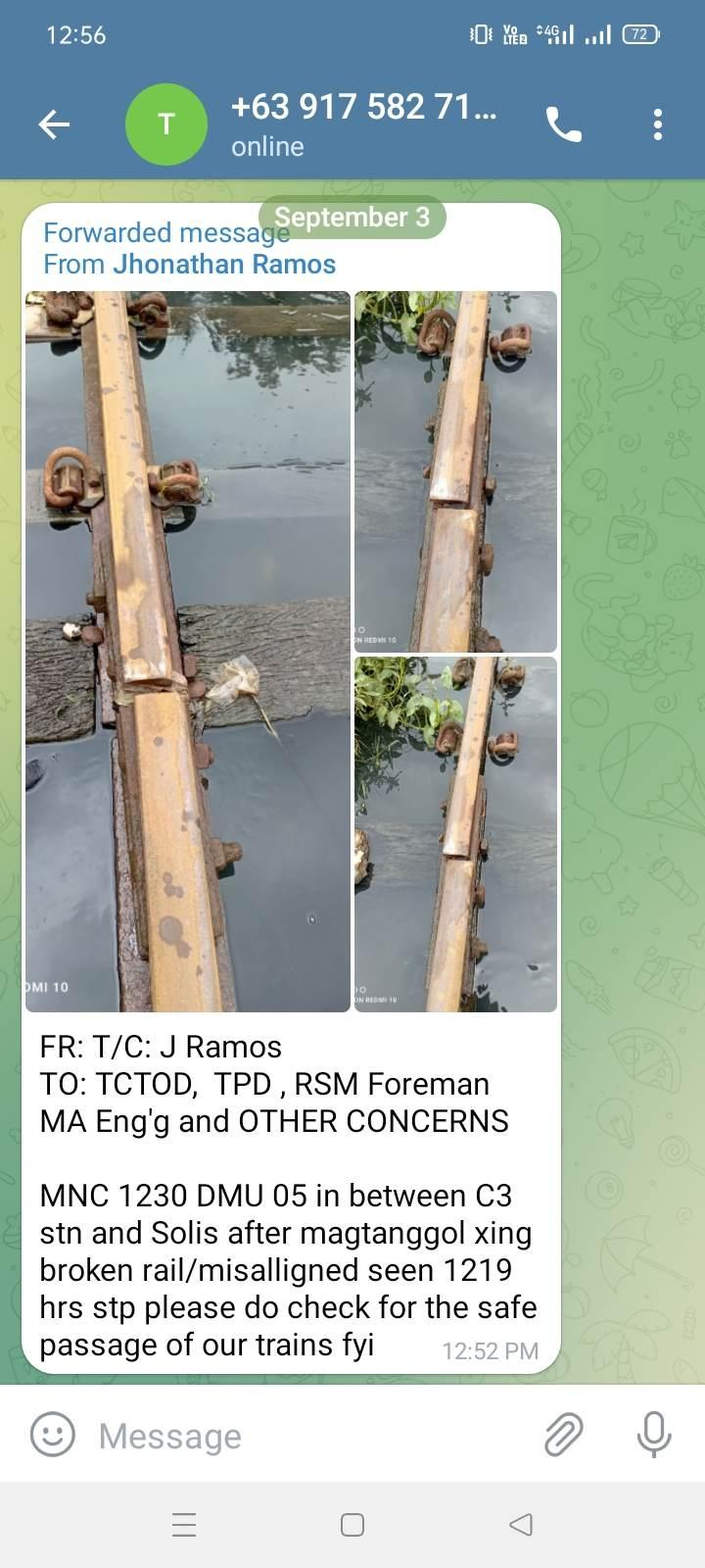railway-gap: (72, 594, 228, 777), (389, 438, 515, 569), (401, 801, 520, 925)
